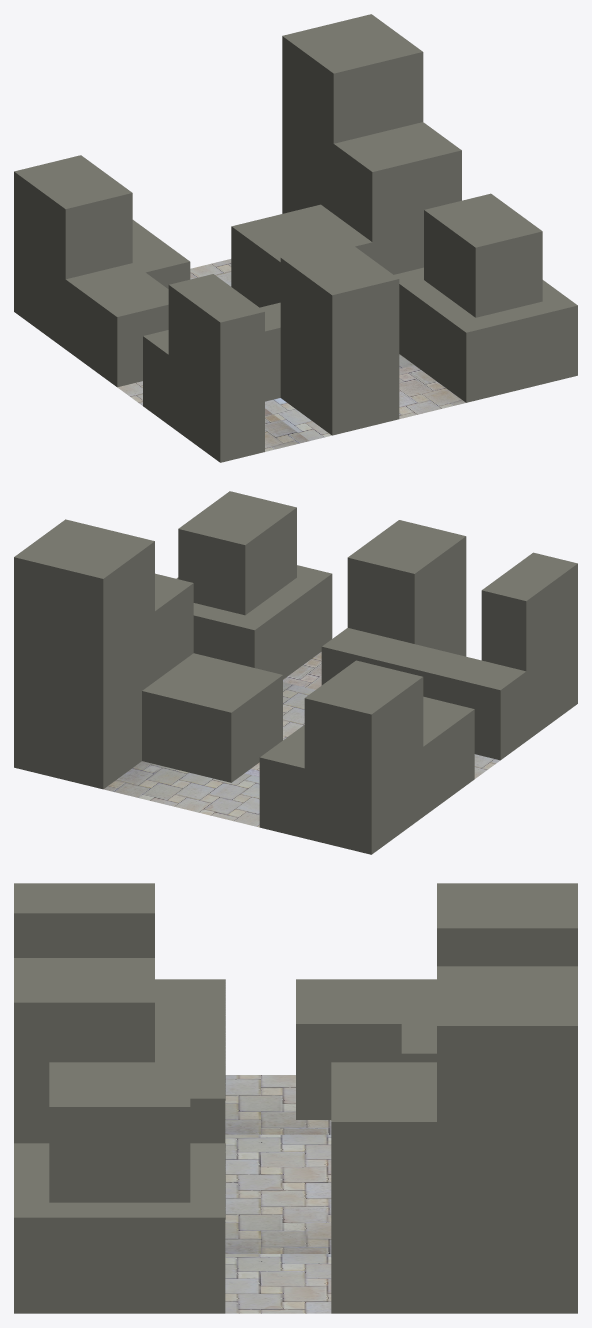
File: MyTile2_HF.fbx
The picture shows the model from 3 angles, top to bottom: view 1: azimuth 30°, elevation 25°; view 2: azimuth 150°, elevation 25°; view 3: azimuth 270°, elevation 25°; orthographic projection. The views are drawn at different scales.
Parts seen in each view (by area): view 1: Tile2; view 2: Tile2; view 3: Tile2.
Boxes of the visible parts, box(x1,y1,x2,y2) form: Tile2: box(14, 14, 577, 462); Tile2: box(14, 491, 577, 854); Tile2: box(14, 883, 577, 1313).
Bounding box in the file's own units: 1600 × 900 × 1600.
